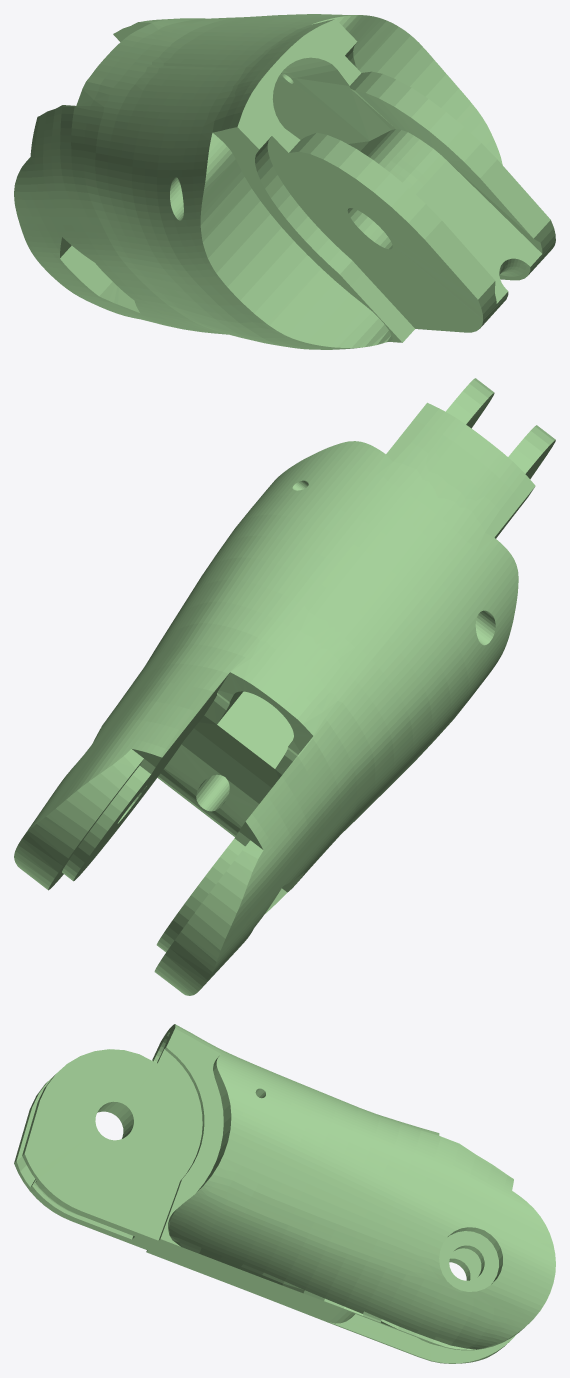
File: i02_rightHand_ringFingerPhal_visual.obj
The picture shows the model from 3 angles, top to bottom: view 1: azimuth 30°, elevation 25°; view 2: azimuth 150°, elevation 25°; view 3: azimuth 270°, elevation 25°; orthographic projection. The views are drawn at different scales.
Visible parts, largest first — view 1: i02_rightHand_ringFingerPhal_visual.001; view 2: i02_rightHand_ringFingerPhal_visual.001; view 3: i02_rightHand_ringFingerPhal_visual.001.
Part boxes in pixels (bbox=[...]): i02_rightHand_ringFingerPhal_visual.001: bbox=[14, 14, 555, 349]; i02_rightHand_ringFingerPhal_visual.001: bbox=[14, 378, 555, 995]; i02_rightHand_ringFingerPhal_visual.001: bbox=[14, 1024, 555, 1363].
Bounding box in the file's own units: 0.214 × 0.3231 × 0.5002.
